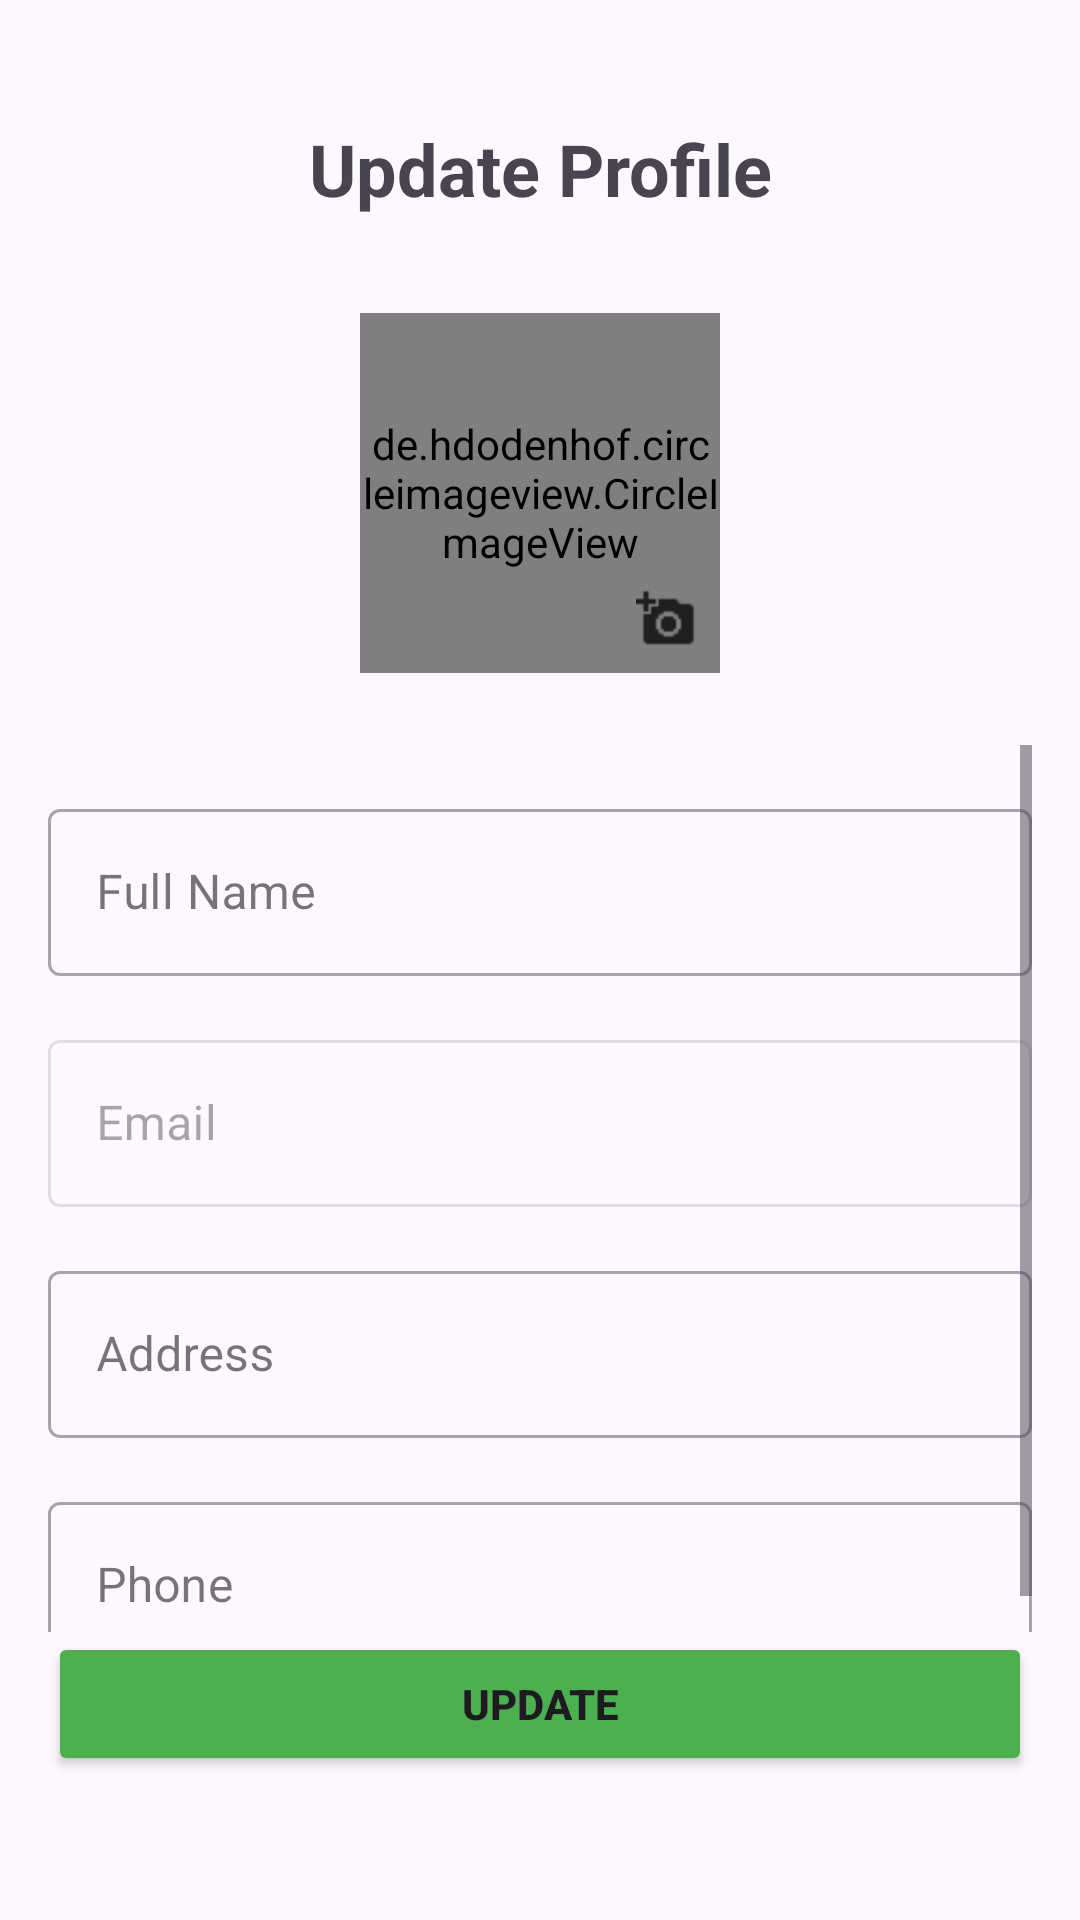

Where to tap for icons on this 1080×1920 app screen, as (x=x, y=y):
add photo: (x=665, y=618)
